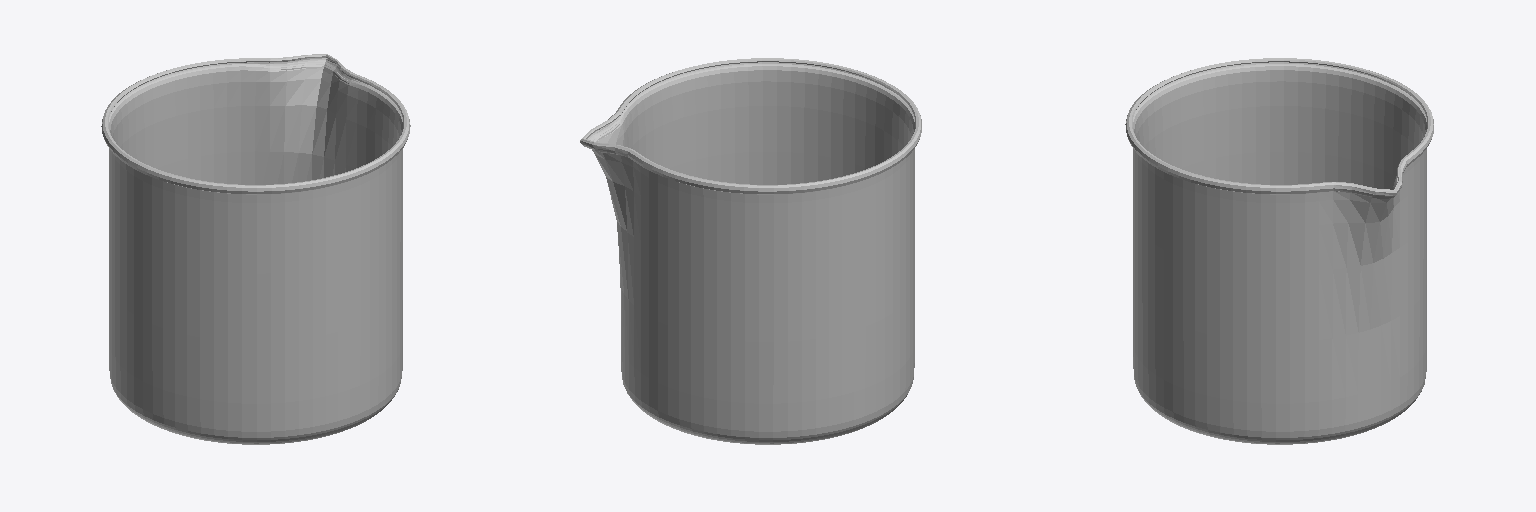
The model's file is Beaker.obj.
3 renders of one model, left to right at view 1: azimuth 30°, elevation 25°; view 2: azimuth 150°, elevation 25°; view 3: azimuth 270°, elevation 25°, orthographic.
Visible parts, largest first — view 1: Beaker; view 2: Beaker; view 3: Beaker.
Part boxes in pixels (x1,y1,x2,y2): Beaker: (101,54,410,444); Beaker: (580,58,921,444); Beaker: (1125,58,1433,444).
Bounding box in the file's own units: 1.04 × 0.9989 × 1.04.